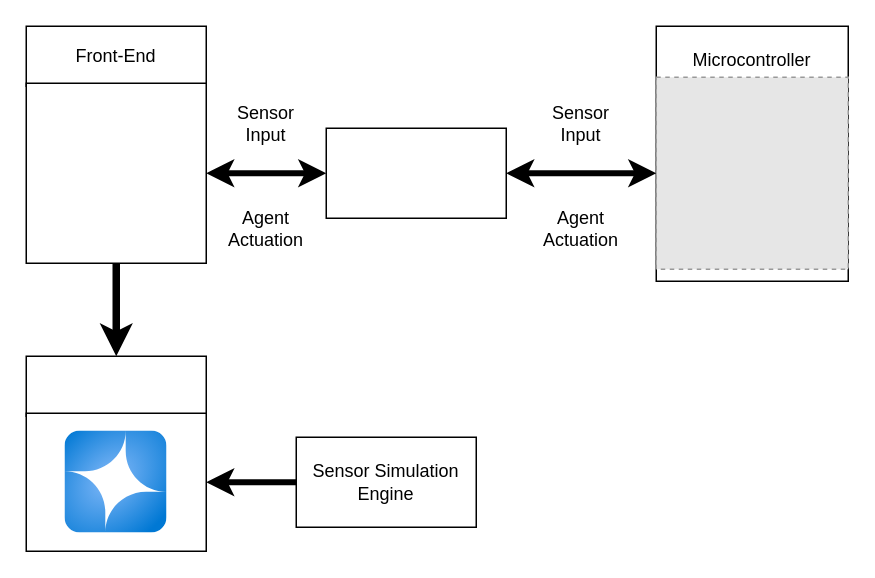
Image size: 875x578. Some labels were removed from this diagram. Grey dashed boxes stand in for pictures. The shapes that lost their labels are listed below. From the top down, each one's centre as x and y in pixels, then its label:
the point at 415,172: Flask API
the point at 115,385: LLM Orchestration
